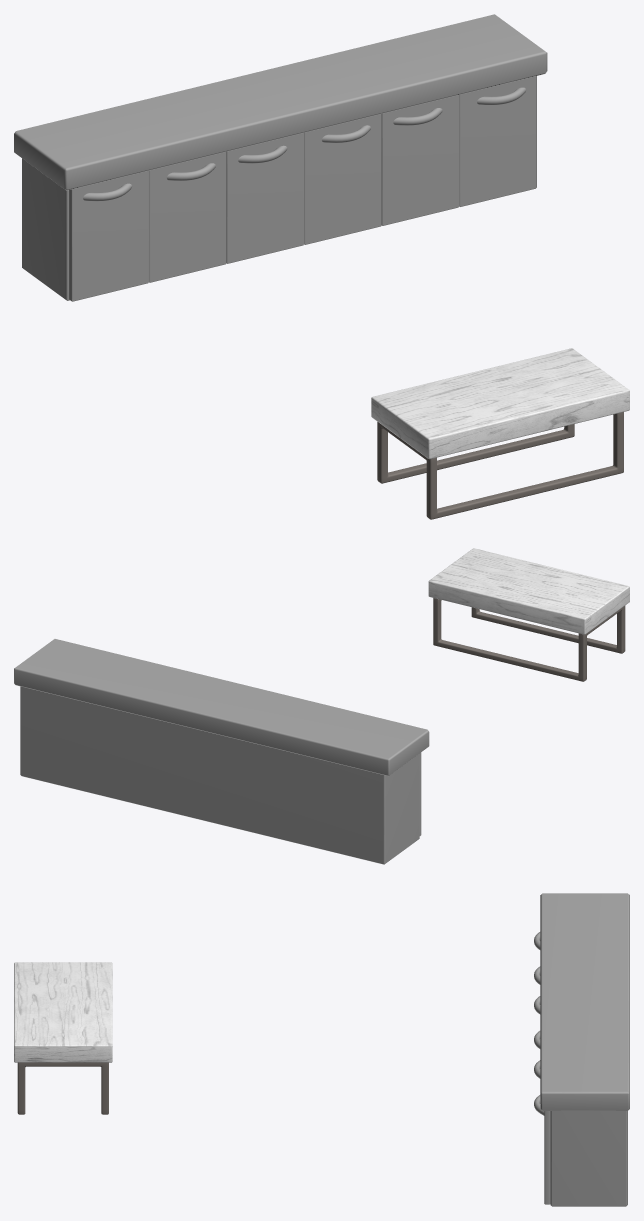
The model's file is table.fbx.
3 views of the same model, one above another, from view 1: azimuth 30°, elevation 25°; view 2: azimuth 150°, elevation 25°; view 3: azimuth 270°, elevation 25° (orthographic). The views are drawn at different scales.
Parts seen in each view (by area): view 1: Cabinet, coffeTable; view 2: Cabinet, coffeTable; view 3: Cabinet, coffeTable.
Part boxes in pixels (x1,y1,x2,y2): Cabinet: (14,14,547,301); coffeTable: (371,348,629,519); Cabinet: (14,639,429,864); coffeTable: (428,548,629,681); Cabinet: (534,893,629,1206); coffeTable: (14,962,112,1114).
Bounding box in the file's own units: 357 × 98.65 × 464.
Materials: 5 (1 with a texture image).
